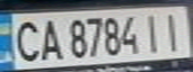4: (118, 12, 142, 56)
7: (81, 14, 106, 57)
8: (63, 15, 87, 58), (103, 14, 124, 56)
A: (36, 16, 63, 62)
C: (9, 16, 45, 63)
I: (157, 9, 190, 52), (139, 10, 166, 54)
